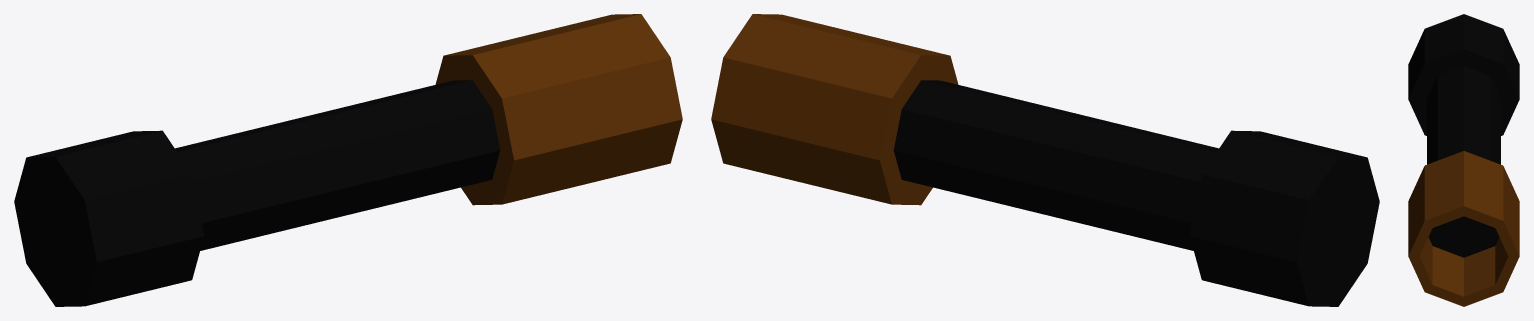
File: tank_cannon.fbx
3 views of the same model, side by side, from view 1: azimuth 30°, elevation 25°; view 2: azimuth 150°, elevation 25°; view 3: azimuth 270°, elevation 25° (orthographic). The views are drawn at different scales.
Parts seen in each view (by area): view 1: tank_cannon; view 2: tank_cannon; view 3: tank_cannon.
Boxes of the visible parts, left/top/right/bottom form: tank_cannon: left=14, top=14, right=682, bottom=306; tank_cannon: left=711, top=14, right=1379, bottom=306; tank_cannon: left=1408, top=14, right=1519, bottom=306.
Bounding box in the file's own units: 116 × 28.45 × 28.45.
